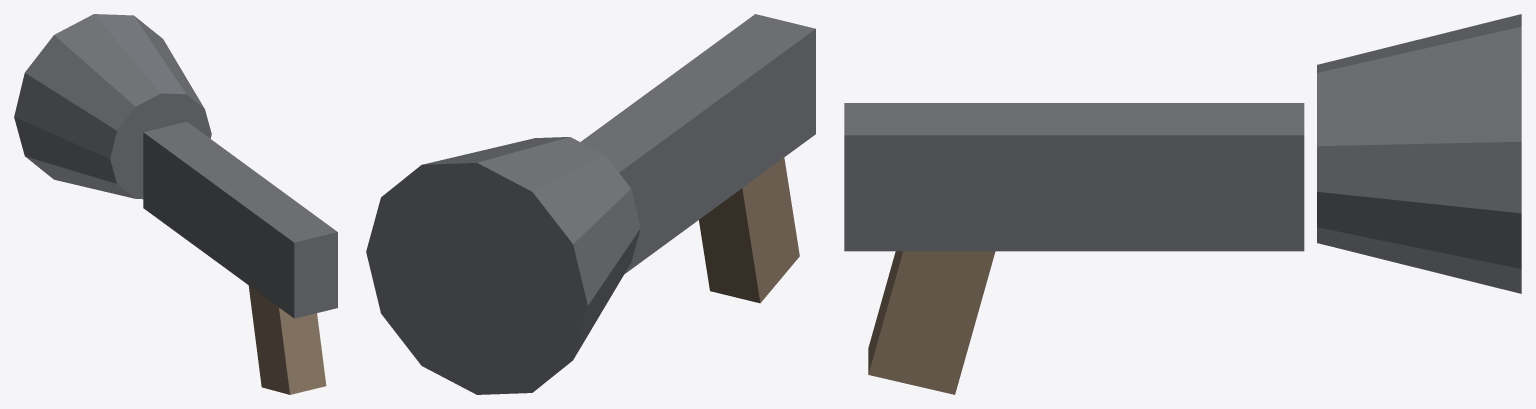
Rendered from gun_wind.glb.
The picture shows the model from 3 angles, left to right: view 1: azimuth 30°, elevation 25°; view 2: azimuth 150°, elevation 25°; view 3: azimuth 270°, elevation 25°; orthographic projection. The views are drawn at different scales.
Visible parts, largest first — view 1: Gun_wind; view 2: Gun_wind; view 3: Gun_wind.
Boxes of the visible parts, box(x1,y1,x2,y2) form: Gun_wind: box(14, 14, 337, 394); Gun_wind: box(366, 14, 815, 394); Gun_wind: box(844, 14, 1521, 394).
Bounding box in the file's own units: 0.22 × 0.3065 × 0.53.
